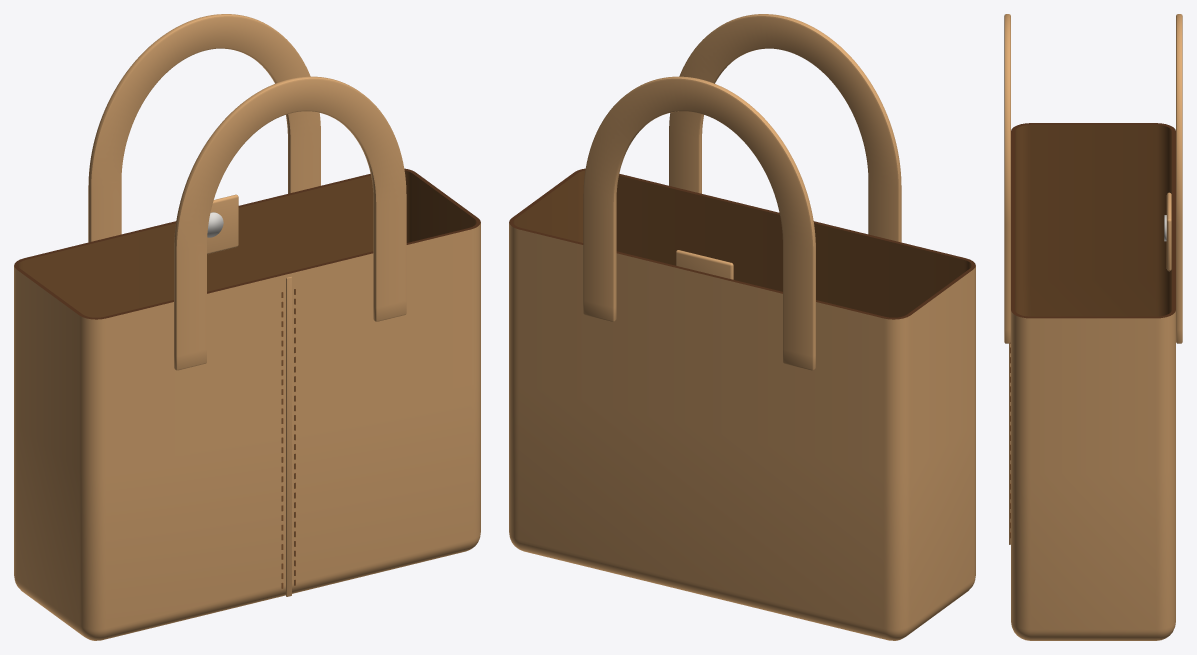
File: m_mupzbvd84wjw.glb
The picture shows the model from 3 angles, left to right: view 1: azimuth 30°, elevation 25°; view 2: azimuth 150°, elevation 25°; view 3: azimuth 270°, elevation 25°; orthographic projection.
Parts seen in each view (by area): view 1: Body, HandleFront, HandleBack, Seam, ClosureTab, Stitches; view 2: Body, HandleBack, HandleFront, ClosureTab; view 3: Body, HandleBack, HandleFront, ClosureTab, Seam.
Part boxes in pixels (x1,y1,x2,y2): Body: (14, 168, 480, 640); HandleFront: (174, 76, 406, 370); HandleBack: (88, 14, 320, 242); Seam: (286, 276, 291, 596); ClosureTab: (207, 194, 238, 254); Stitches: (281, 289, 295, 588); Body: (509, 168, 975, 640); HandleBack: (583, 76, 815, 370); HandleFront: (669, 14, 901, 242); ClosureTab: (676, 250, 733, 279); Body: (1011, 123, 1175, 640); HandleBack: (1176, 14, 1182, 343); HandleFront: (1004, 14, 1010, 343); ClosureTab: (1166, 192, 1171, 271); Seam: (1009, 343, 1010, 544).
Bounding box in the file's own units: 0.28 × 0.351 × 0.108.
